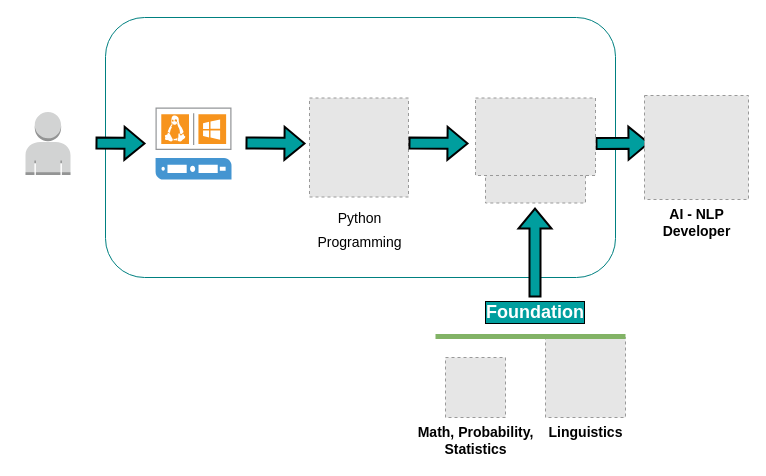
Image size: 766x476. Some labels were removed from this diagram. Grey dashed boxes stand in for pictures. The centre of each missing label's shape, as x and y in pixels:
"Basic Capabilities" belongs at pixel 193 143.
"End User" belongs at pixel 47 143.
